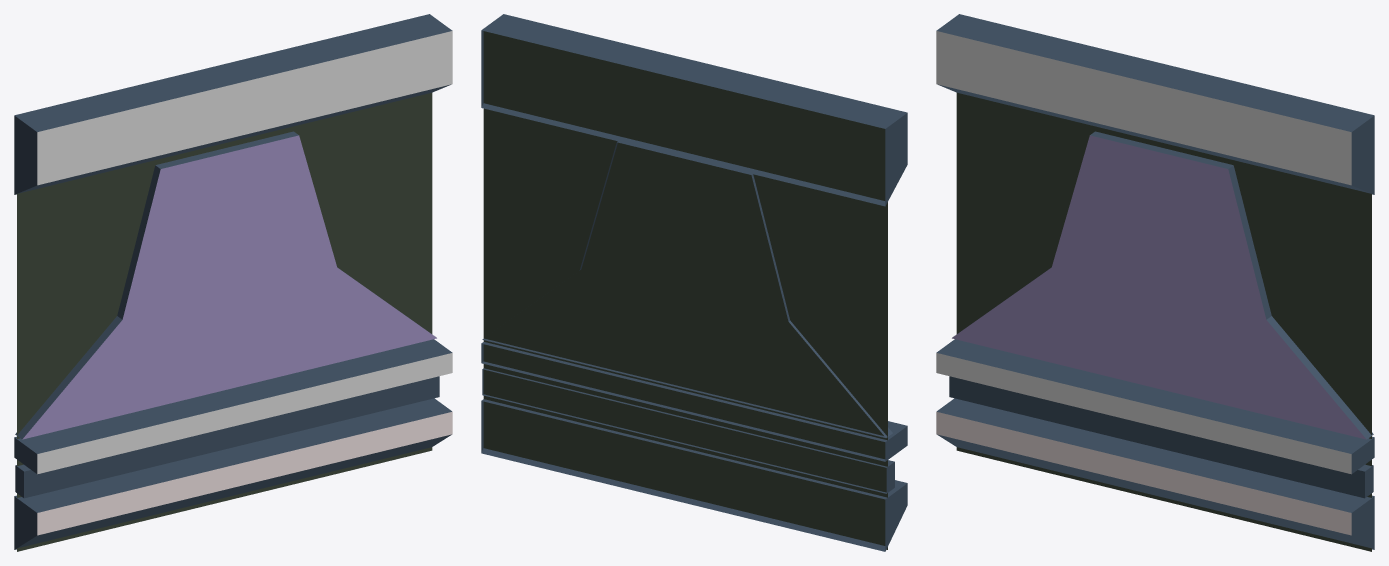
The model's file is Environment_Wall_1.fbx.
The picture shows the model from 3 angles, left to right: view 1: azimuth 30°, elevation 25°; view 2: azimuth 150°, elevation 25°; view 3: azimuth 330°, elevation 25°; orthographic projection. The views are drawn at different scales.
Visible parts, largest first — view 1: Wall_1; view 2: Wall_1; view 3: Wall_1.
Part boxes in pixels (x1,y1,x2,y2): Wall_1: (14,14,452,551); Wall_1: (481,14,907,551); Wall_1: (936,14,1374,551).
Size of the model in its own units: 400 by 400 by 38.42.
